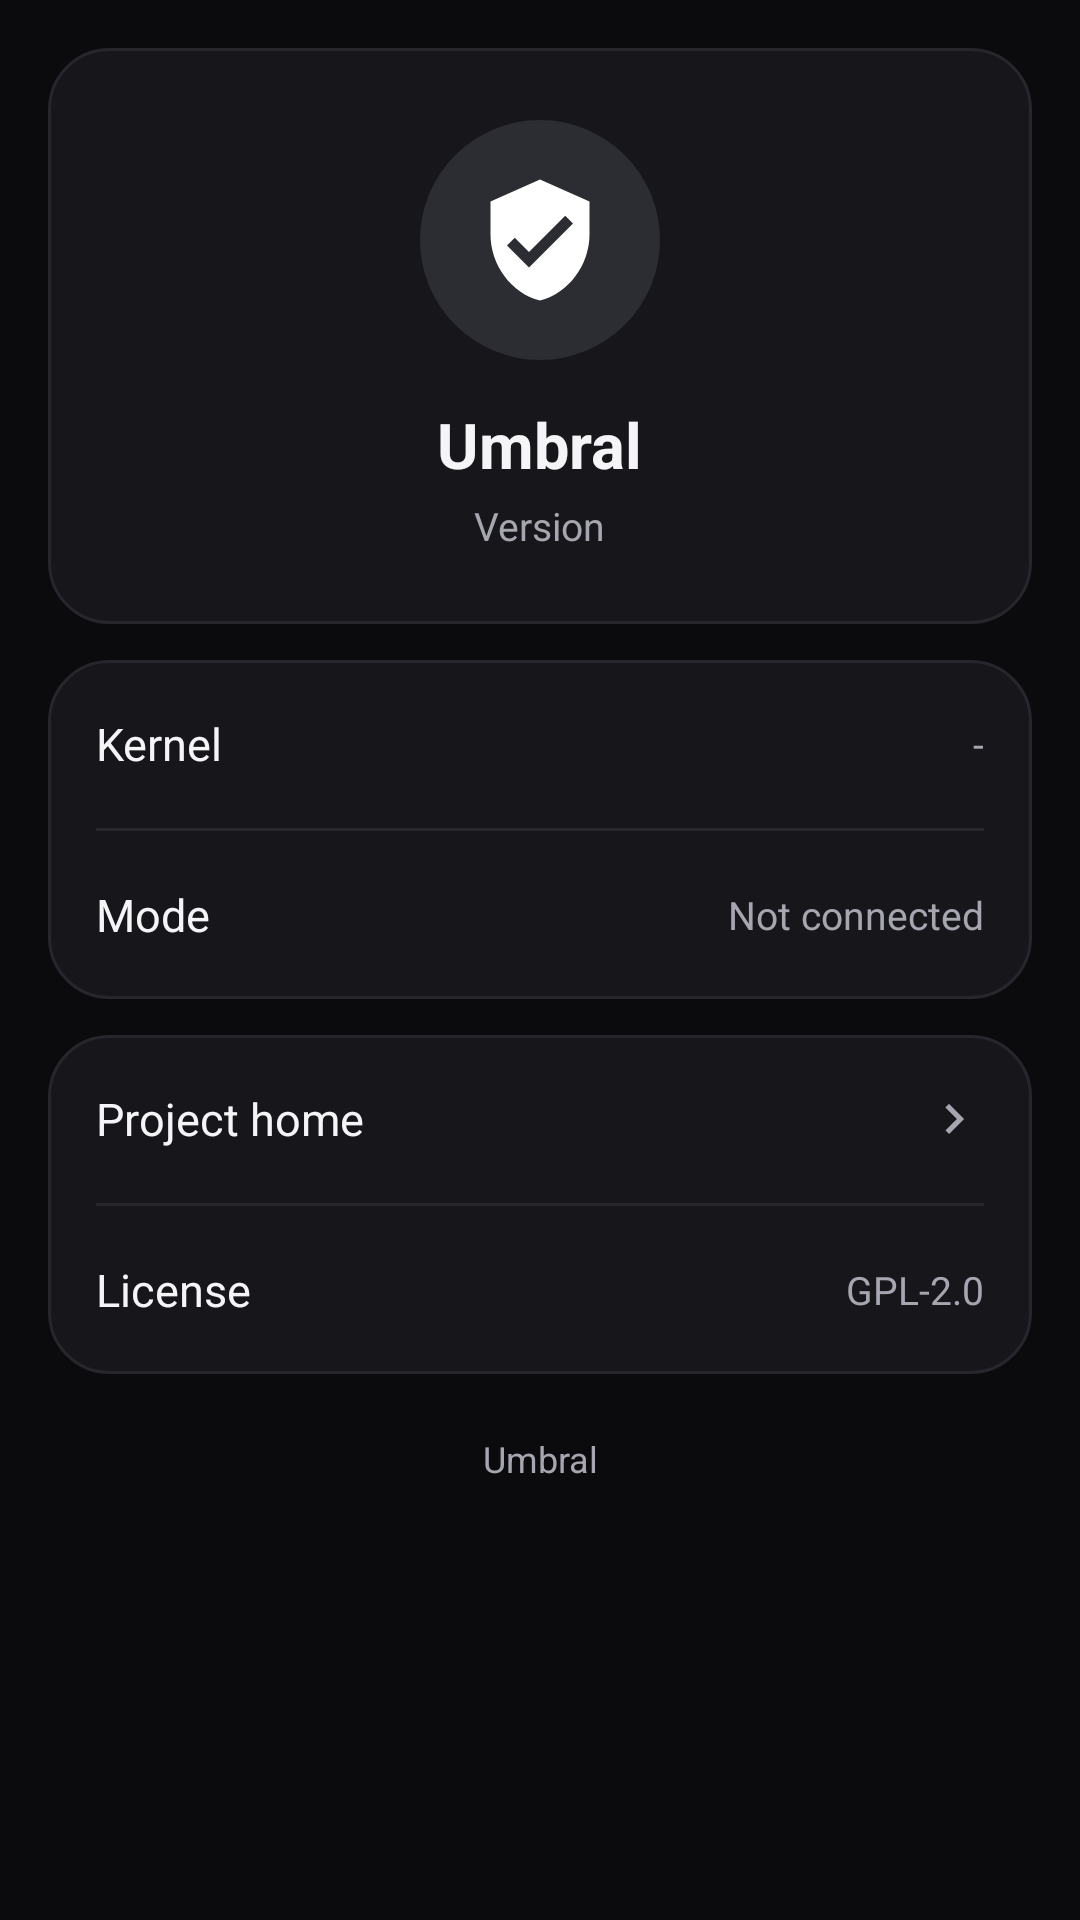

Icons on this 1080w x 1920h Android screen, each with its box as rect(x1, y1, x2, y2):
chevron right: rect(945, 1104, 964, 1134)
superuser: rect(490, 179, 590, 301)
